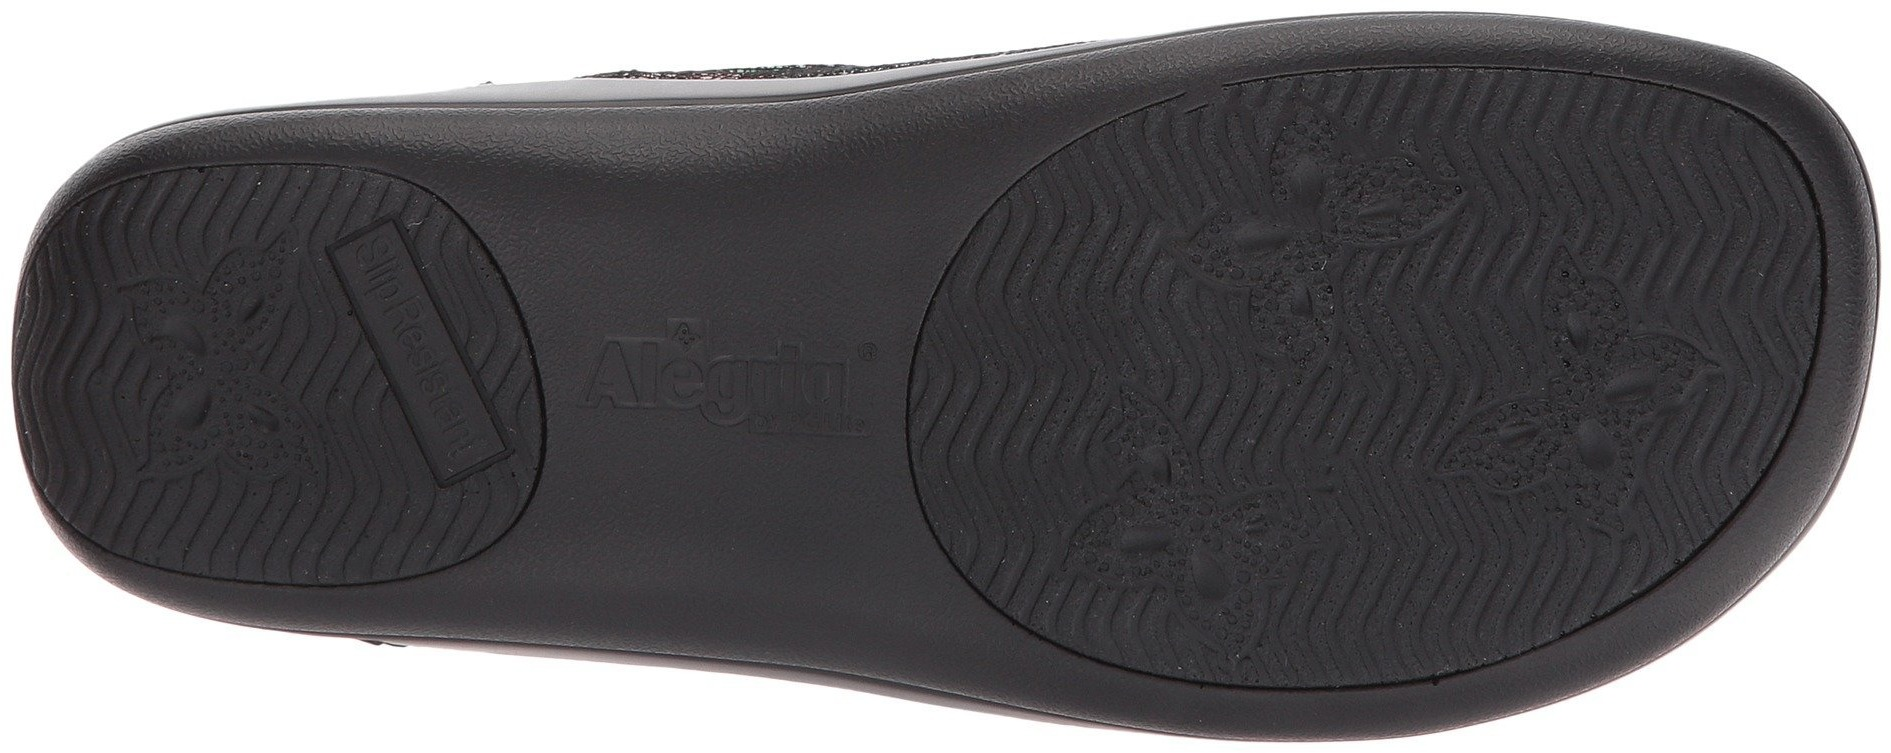other: (586, 125, 801, 308), (637, 469, 816, 626)
text: (745, 307, 894, 453), (593, 313, 734, 454)
